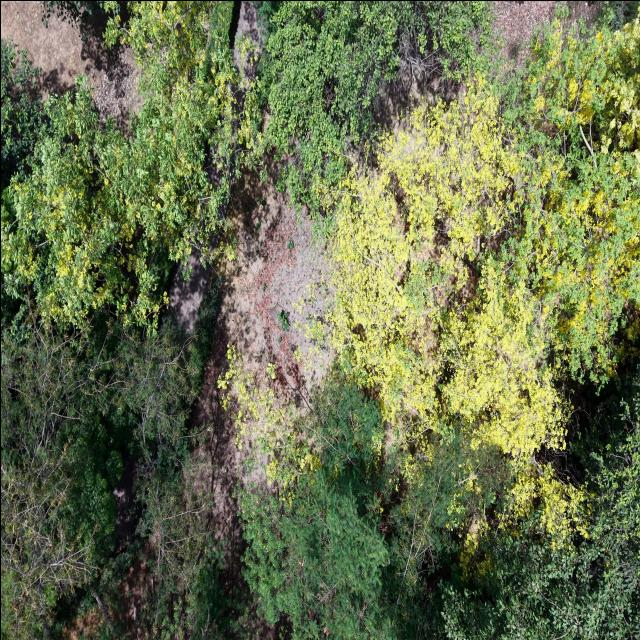DRY_AREA: (171, 169, 332, 592), (170, 168, 332, 582), (171, 174, 332, 590), (187, 173, 332, 593), (187, 174, 332, 594), (191, 174, 332, 592), (191, 174, 331, 590), (194, 173, 332, 589), (195, 174, 333, 550), (192, 179, 315, 590), (193, 173, 333, 483), (215, 169, 332, 411), (218, 167, 331, 409), (220, 173, 332, 410), (222, 170, 332, 406), (218, 170, 324, 404), (1, 1, 141, 130), (1, 1, 142, 128), (1, 1, 141, 127), (1, 1, 141, 124), (1, 1, 141, 119), (1, 1, 141, 118), (1, 1, 104, 96), (489, 1, 602, 67), (374, 55, 448, 136), (374, 61, 435, 136), (94, 47, 143, 130), (495, 1, 559, 62), (169, 252, 211, 333), (169, 254, 211, 332), (232, 1, 263, 65), (236, 1, 261, 51), (63, 608, 102, 639)
VEGETATION_TREE: (1, 1, 639, 639), (243, 15, 639, 639), (1, 3, 248, 639), (331, 22, 639, 530), (333, 23, 639, 416), (242, 370, 639, 639), (1, 1, 249, 325), (1, 317, 240, 639), (241, 370, 510, 639), (1, 315, 196, 638), (440, 369, 639, 639), (258, 1, 490, 215), (503, 21, 639, 382), (242, 381, 392, 639), (1, 41, 47, 228), (1, 40, 45, 207), (42, 1, 124, 25)
